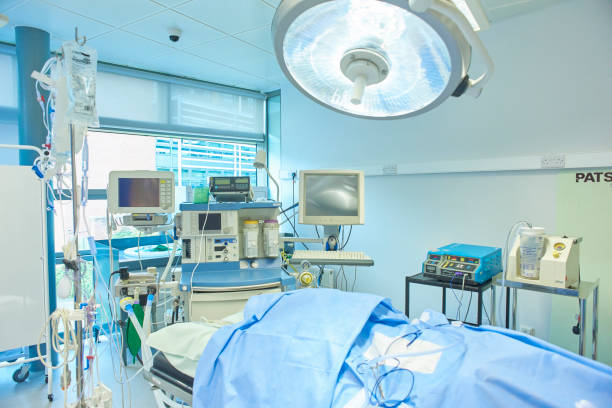bedside_monitor: (108, 169, 175, 216), (190, 211, 231, 234)
breathing_tube: (118, 287, 165, 368)
computer: (298, 169, 367, 223)
electrosurgical_unit: (421, 238, 503, 283)
iv_pole: (53, 39, 108, 408)
keyboard: (295, 245, 370, 266)
operating_bed: (147, 289, 612, 408)
surgical_light: (270, 1, 465, 124)
